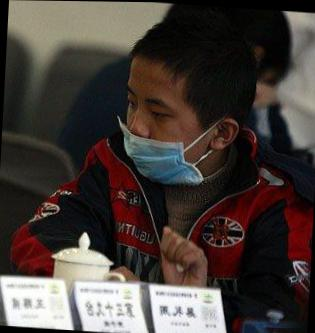WRONG: (122, 76, 231, 186)
